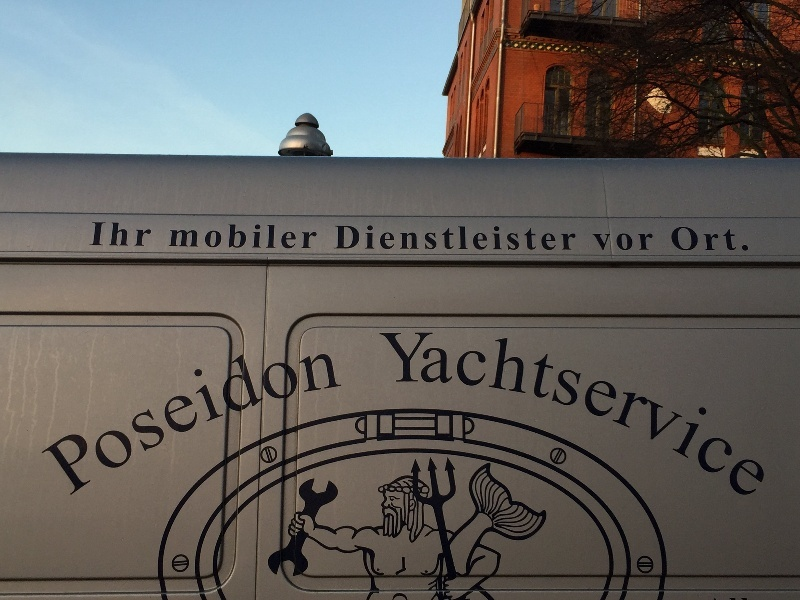text: (49, 305, 64, 499), (65, 305, 80, 499), (81, 305, 96, 499), (97, 305, 112, 499), (113, 305, 128, 499), (129, 305, 144, 499), (145, 305, 160, 499), (161, 305, 176, 499), (177, 305, 192, 499), (193, 305, 208, 499), (209, 305, 224, 499), (225, 305, 240, 499), (241, 305, 256, 499), (257, 305, 272, 499), (273, 305, 288, 499), (289, 305, 304, 499), (305, 305, 320, 499), (321, 305, 336, 499), (385, 331, 400, 505), (401, 331, 416, 505), (417, 331, 432, 505), (433, 331, 448, 505), (449, 331, 464, 505), (465, 331, 480, 505), (481, 331, 496, 505), (497, 331, 512, 505), (513, 331, 528, 505), (529, 331, 544, 505), (545, 331, 560, 505), (561, 331, 576, 505), (577, 331, 592, 505), (593, 331, 608, 505), (609, 331, 624, 505), (625, 331, 640, 505), (641, 331, 656, 505), (657, 331, 672, 505), (673, 331, 688, 505), (689, 331, 704, 505), (705, 331, 720, 505), (721, 331, 736, 505), (737, 331, 752, 505), (753, 331, 767, 505), (38, 305, 48, 499), (337, 305, 343, 499), (379, 331, 384, 505), (305, 223, 321, 250), (177, 223, 192, 250), (193, 223, 208, 250), (209, 223, 224, 250), (225, 223, 240, 250), (241, 223, 256, 250), (257, 223, 272, 250), (273, 223, 288, 250), (289, 223, 304, 250), (737, 226, 753, 251), (337, 226, 352, 252), (353, 226, 368, 252), (369, 226, 384, 252), (385, 226, 400, 252), (401, 226, 416, 252), (417, 226, 432, 252), (433, 226, 448, 252), (449, 226, 464, 252), (465, 226, 480, 252), (481, 226, 496, 252), (497, 226, 512, 252), (513, 226, 528, 252), (529, 226, 544, 252), (545, 226, 560, 252), (561, 226, 576, 252), (97, 222, 112, 247), (113, 222, 128, 247), (129, 222, 144, 247), (673, 226, 688, 251), (689, 226, 704, 251), (705, 226, 720, 251), (721, 226, 736, 251), (593, 233, 608, 252), (609, 233, 624, 252), (625, 233, 640, 252), (145, 222, 156, 247), (641, 233, 655, 252), (171, 223, 176, 250), (667, 226, 672, 251), (92, 222, 96, 247), (334, 226, 336, 252), (577, 226, 579, 252)
